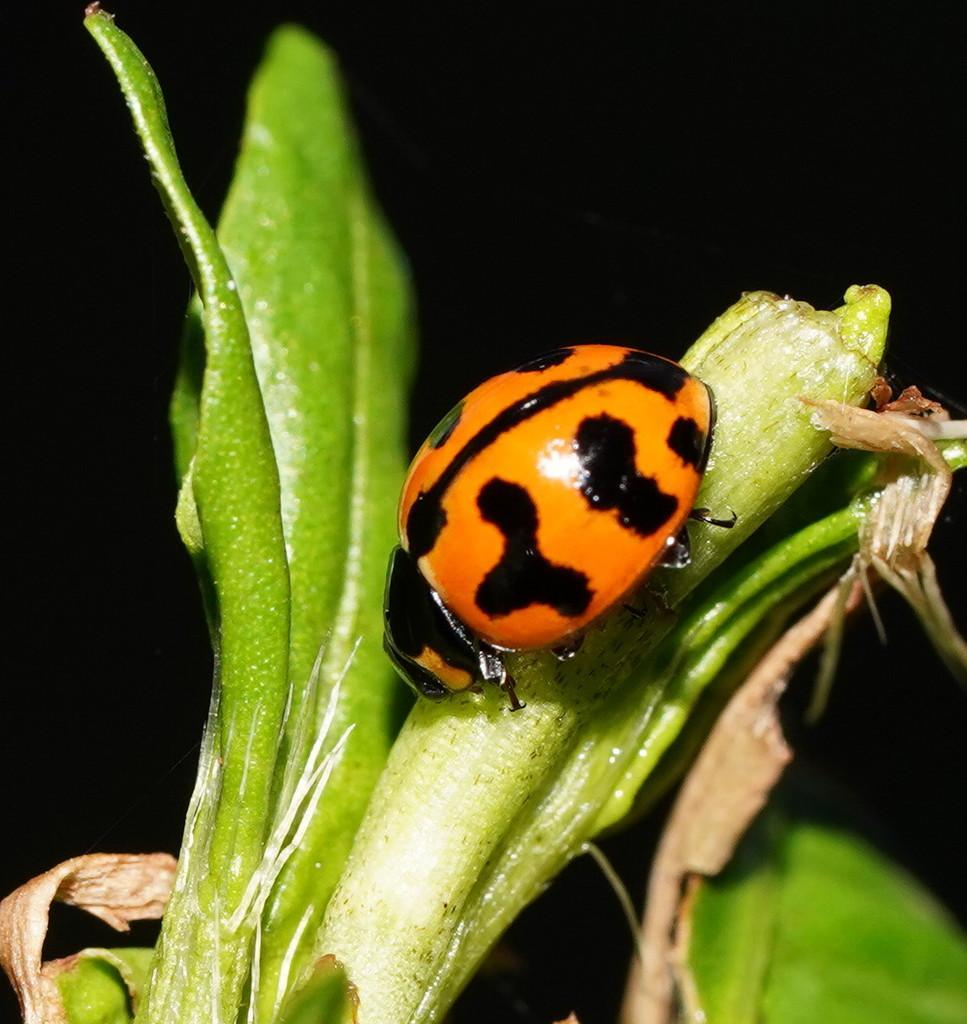ladybug: (381, 339, 741, 714)
